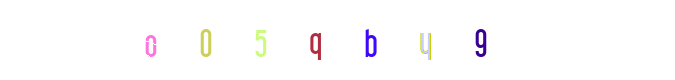0: (227, 0, 307, 80)
5: (276, 0, 356, 80)
9: (441, 0, 521, 80)
B: (330, 0, 410, 80)
O: (193, 0, 273, 80)
Q: (297, 0, 377, 80)
Y: (370, 0, 450, 80)
